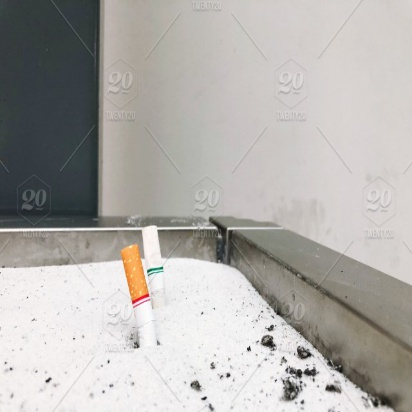cigarette: (116, 242, 160, 353), (141, 217, 170, 307)
